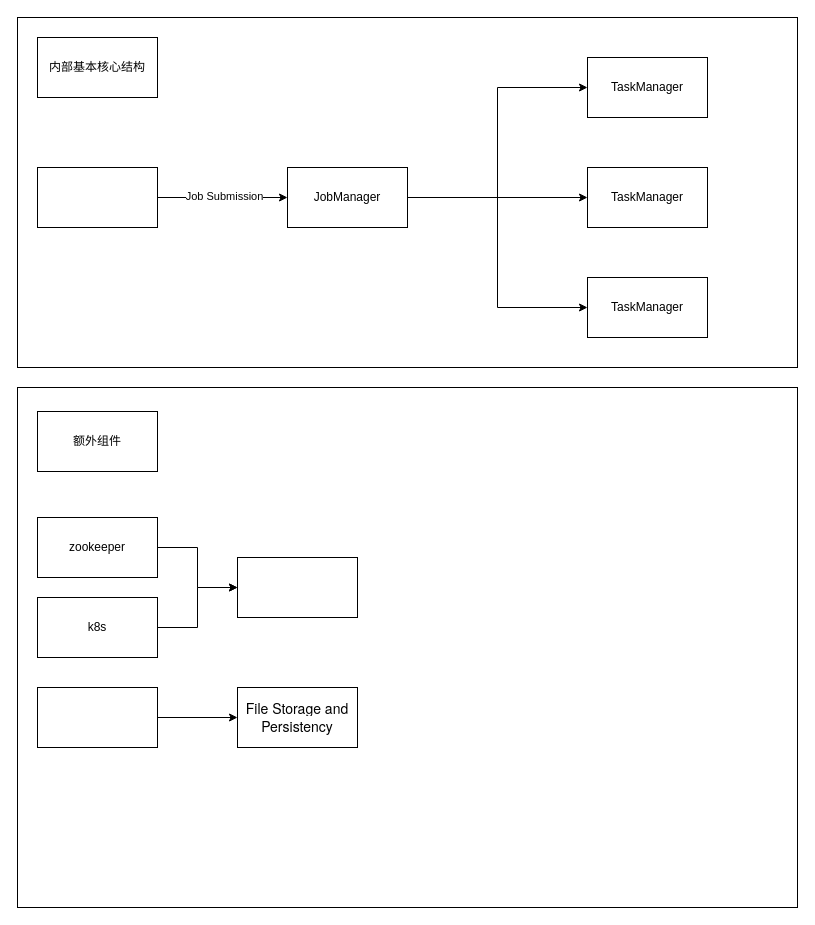
The diagram is 815 pixels wide and 925 high, and some of its shapes have lost their labels. Here are the shapes that lost their labels. From the top down, the centre of each, then its label:
the point at 97,197: flink client
the point at 297,587: High Availability Service Provider
the point at 97,717: FileSystems
